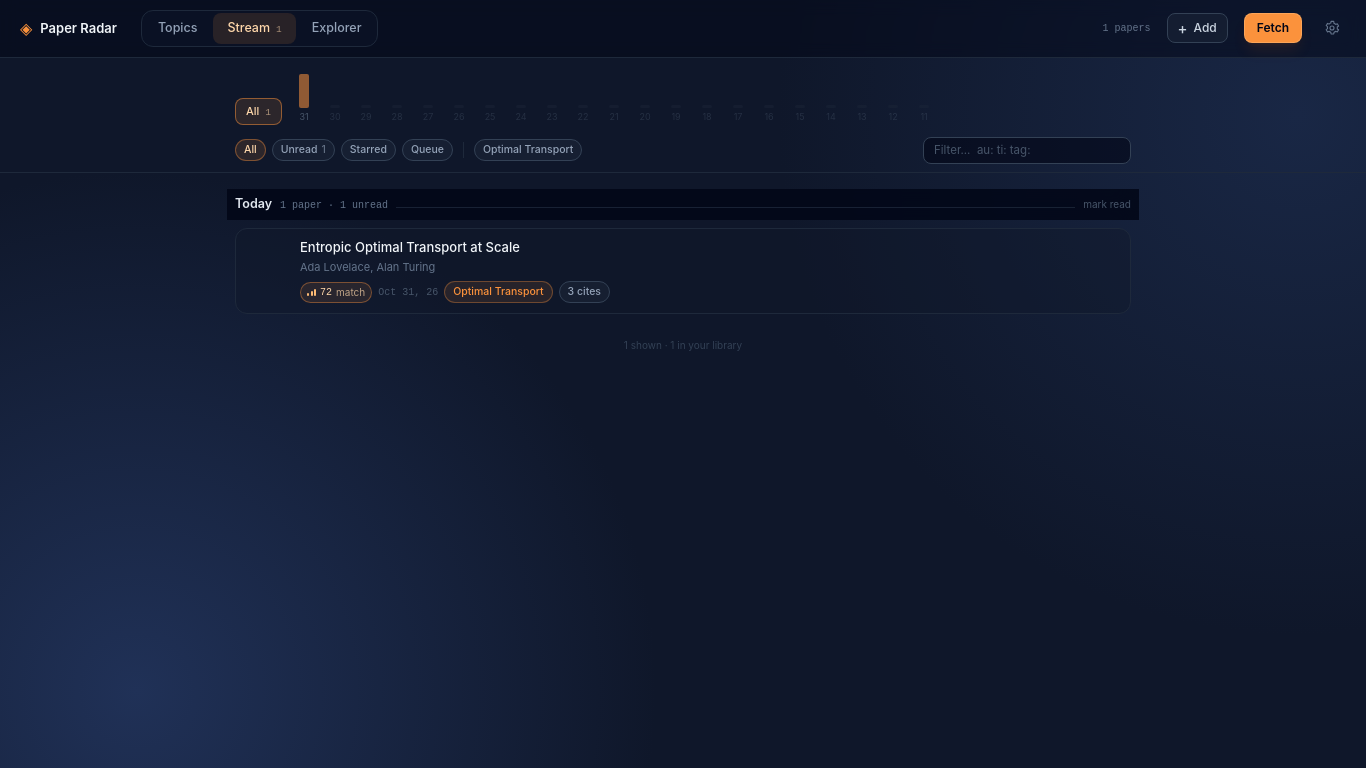
Test: the Topics tab shows a card per topic plus the create affordance
The image size is (1366, 768).
Click the tab with test id "tab-topics": (178, 28) [144,13,212,44]
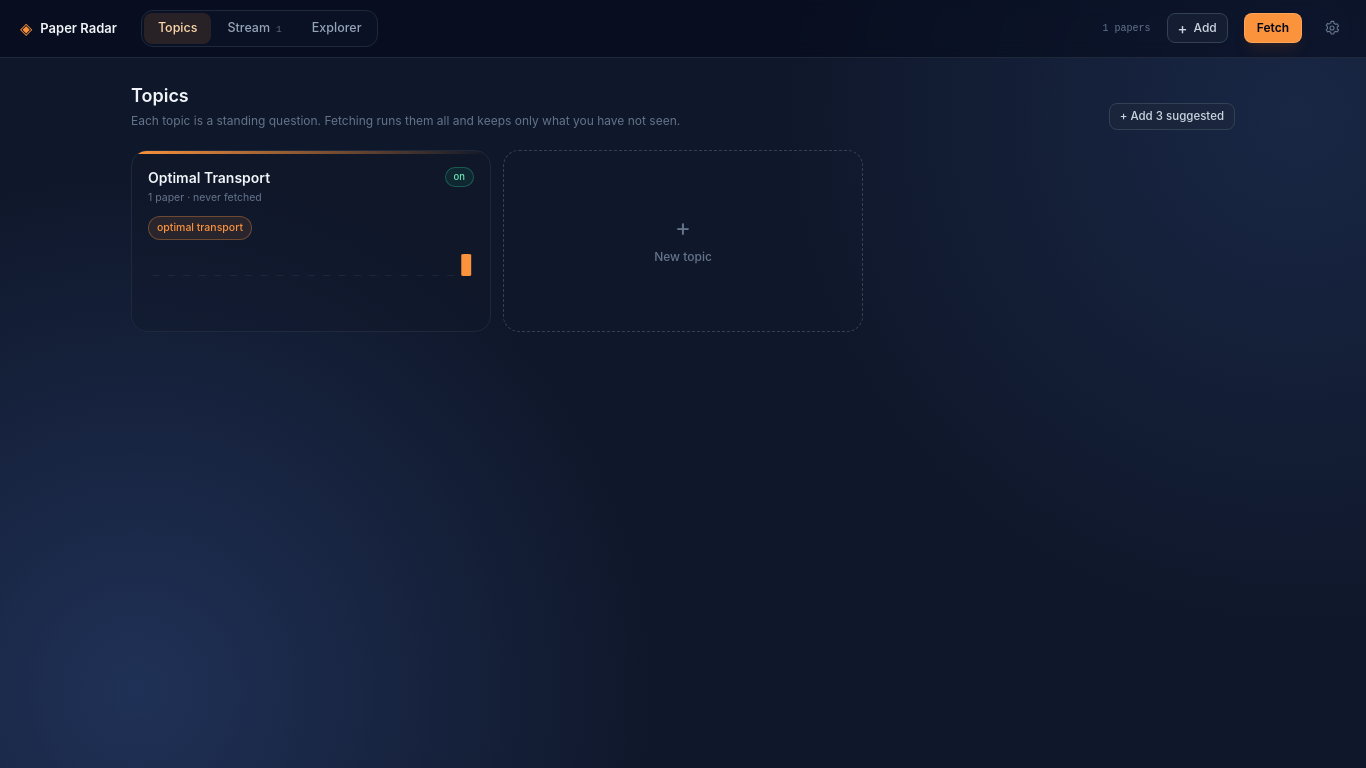
expect the element with test id "topic-card-t_ot" shows "Optimal Transport": met, box [148,169,270,186]
expect the button with test id "new-topic-card" is shown: met, box [503,150,863,332]
